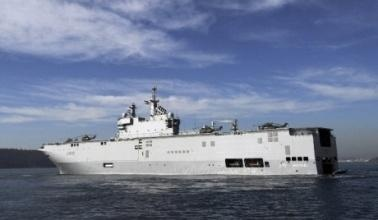warship: (27, 89, 357, 179)
